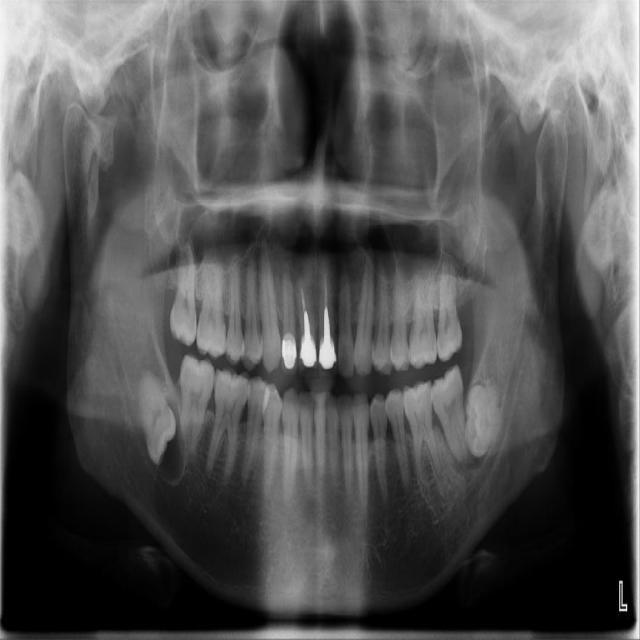52: (299, 332, 318, 382), (319, 336, 337, 380), (281, 333, 297, 375)
73: (314, 265, 337, 347), (295, 276, 315, 341), (593, 548, 604, 566)
BioHorizons Implant: (436, 248, 467, 362)
Biomet 3i Implant: (463, 378, 506, 458)
Blue Sky Bio Implant: (429, 363, 469, 463)
Caries: (168, 238, 197, 349)
Implant: (178, 353, 216, 451)
Keystone Dental Implant: (131, 366, 185, 468)
